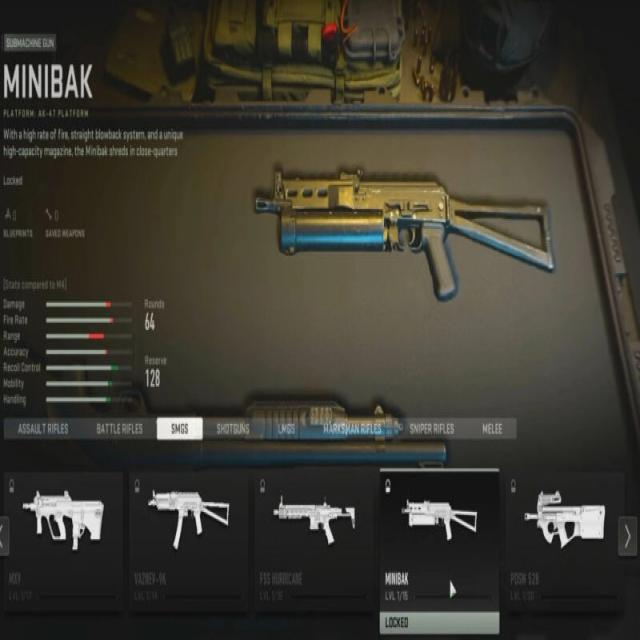Weapon: (251, 165, 557, 304), (21, 490, 106, 554), (146, 491, 234, 550), (521, 492, 607, 550), (271, 496, 358, 550), (400, 492, 479, 543)
